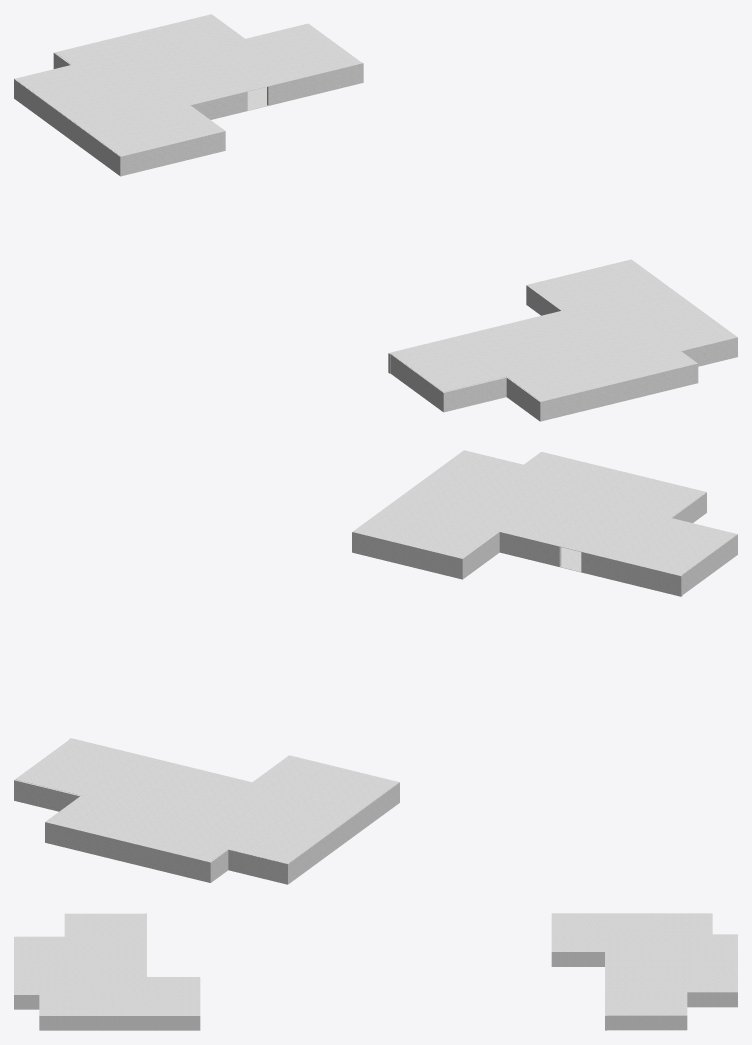
Rendered from Sword Crafting System.obj.
3 renders of one model, top to bottom at view 1: azimuth 30°, elevation 25°; view 2: azimuth 150°, elevation 25°; view 3: azimuth 270°, elevation 25°, orthographic. The views are drawn at different scales.
Parts seen in each view (by area): view 1: Pisosala3, Pisosala2, Pisobadearmas2, Pisobadearmas4, Pisocozinha1, Pisocozinha3, Pisodormitorios4, Pisodormitorios2, Parede53, Parede23, Pisobanheiro4, Pisobanheiro1 (+11 smaller); view 2: Pisosala3, Pisosala2, Pisobadearmas4, Pisobadearmas2, Pisocozinha3, Pisocozinha1, Pisodormitorios2, Pisodormitorios4, Parede27, Parede23, Pisobanheiro1, Pisobanheiro4 (+11 smaller); view 3: Pisosala2, Pisosala3, Parede30, Pisobadearmas2, Pisobadearmas4, Pisocozinha1, Pisocozinha3, Pisodormitorios2, Pisodormitorios4, Parede14, Pisosaladerecursos1, Pisosaladerecursos3 (+7 smaller).
Part boxes in pixels (x1,y1,x2,y2): Pisosala3: [453, 299, 662, 376]; Pisosala2: [90, 40, 298, 116]; Pisobadearmas2: [86, 105, 225, 156]; Pisobadearmas4: [526, 259, 665, 310]; Pisocozinha1: [245, 24, 361, 78]; Pisocozinha3: [390, 337, 506, 391]; Pisodormitorios4: [570, 338, 696, 386]; Pisodormitorios2: [55, 29, 182, 77]; Parede53: [541, 363, 698, 420]; Parede23: [14, 79, 122, 176]; Pisobanheiro4: [507, 361, 603, 401]; Pisobanheiro1: [148, 14, 244, 54]; Pisosala3: [450, 478, 669, 559]; Pisosala2: [82, 754, 300, 835]; Pisobadearmas4: [353, 505, 499, 558]; Pisobadearmas2: [252, 755, 398, 808]; Pisocozinha3: [614, 518, 735, 575]; Pisocozinha1: [16, 738, 138, 795]; Pisodormitorios2: [111, 812, 244, 862]; Pisodormitorios4: [507, 452, 639, 502]; Parede27: [46, 823, 211, 882]; Parede23: [287, 782, 399, 884]; Pisobanheiro1: [46, 796, 147, 838]; Pisobanheiro4: [604, 476, 705, 518]; Pisosala2: [605, 934, 685, 991]; Pisosala3: [66, 937, 146, 994]; Parede30: [39, 1015, 200, 1030]; Pisobadearmas2: [551, 913, 604, 952]; Pisobadearmas4: [147, 977, 200, 1015]; Pisocozinha1: [605, 992, 685, 1015]; Pisocozinha3: [66, 913, 146, 936]; Pisodormitorios2: [686, 934, 737, 968]; Pisodormitorios4: [14, 960, 65, 994]; Parede14: [605, 1014, 687, 1030]; Pisosaladerecursos1: [658, 913, 712, 934]; Pisosaladerecursos3: [39, 994, 93, 1015].
Size of what is drawn, in the model's own units: 235 by 15.9 by 703.
